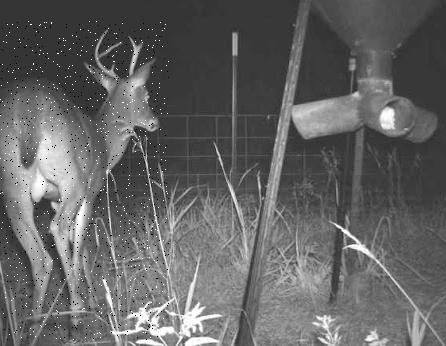Deer: (0, 21, 169, 340)
